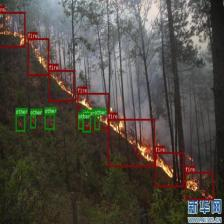fire: (108, 118, 154, 167), (77, 93, 109, 129), (154, 152, 184, 186), (0, 11, 25, 47), (184, 172, 214, 200), (27, 38, 49, 76), (48, 70, 74, 101)
